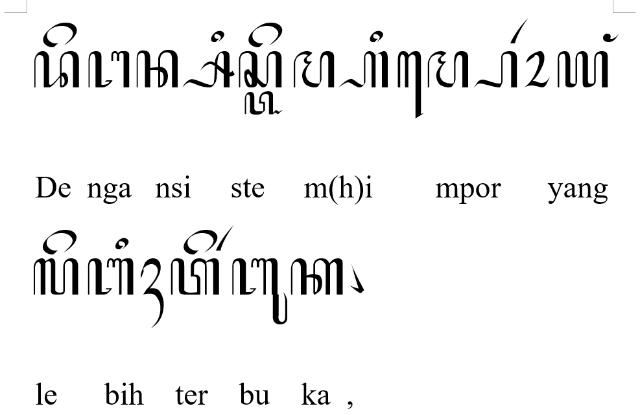_h: (338, 50, 388, 88)
_h1: (140, 259, 164, 329)
_p: (473, 50, 517, 88)
_r1: (216, 225, 234, 251), (510, 18, 528, 42)
_s: (183, 50, 235, 88)
_t: (243, 90, 283, 116)
bu: (232, 258, 288, 325)
d: (34, 50, 80, 88)
e: (43, 22, 77, 48), (248, 22, 282, 48), (184, 230, 218, 255), (44, 230, 76, 256)
e1: (398, 52, 422, 118)
i: (211, 30, 225, 42), (371, 30, 384, 42), (115, 238, 128, 250)
k: (289, 258, 343, 296)
kom: (350, 264, 364, 294)
l: (32, 258, 80, 296)
m: (293, 50, 335, 88), (427, 51, 469, 89)
n: (137, 50, 179, 90)
ng: (603, 34, 619, 42)
nga: (86, 258, 134, 296), (87, 51, 131, 89)
o: (524, 50, 550, 88)
s: (238, 50, 282, 88)
t: (170, 258, 220, 296)
y: (558, 51, 608, 88)
